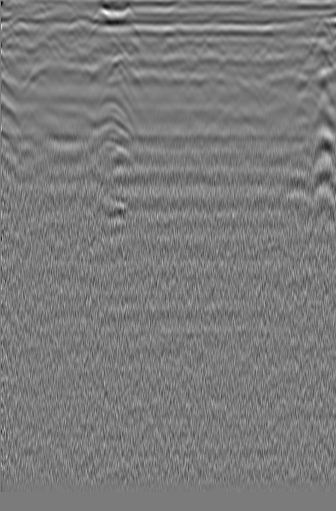가스: (82, 134, 137, 168)
상수: (1, 12, 37, 44)
오수: (301, 16, 334, 56)
우수: (151, 26, 190, 63)
